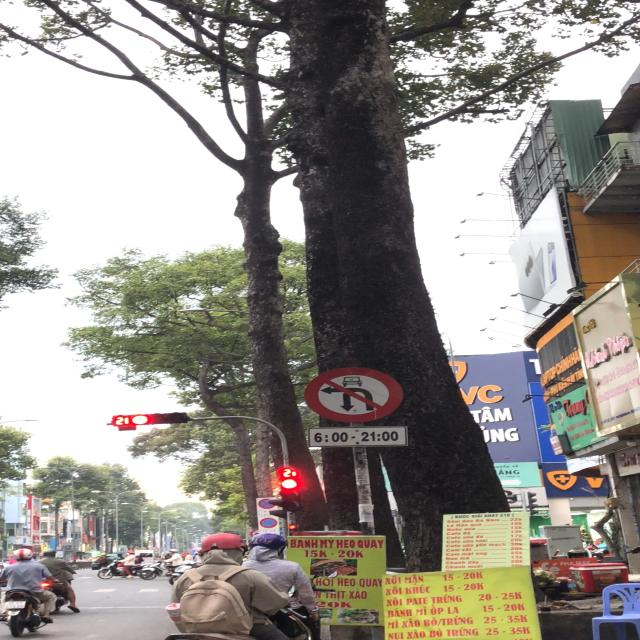Bien bao cam oto re trai va quay dau xe: (301, 365, 407, 427)
